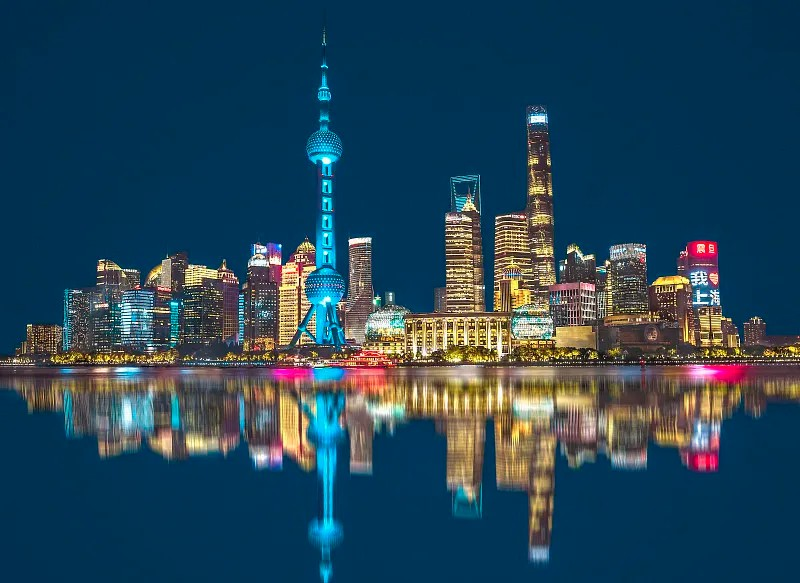Oriental: (287, 26, 348, 345)
